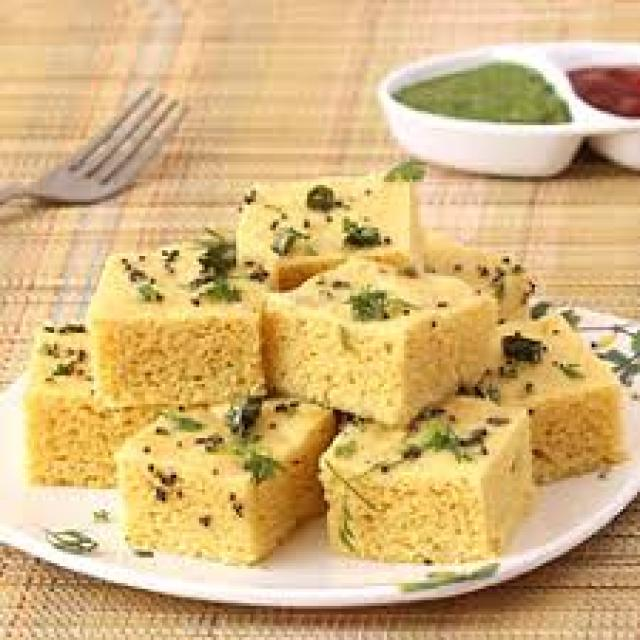DHOKLA: (264, 253, 498, 428), (119, 388, 341, 562), (323, 394, 537, 557), (472, 309, 633, 483), (90, 248, 273, 399), (239, 173, 427, 278), (23, 333, 159, 477), (421, 254, 541, 325)
